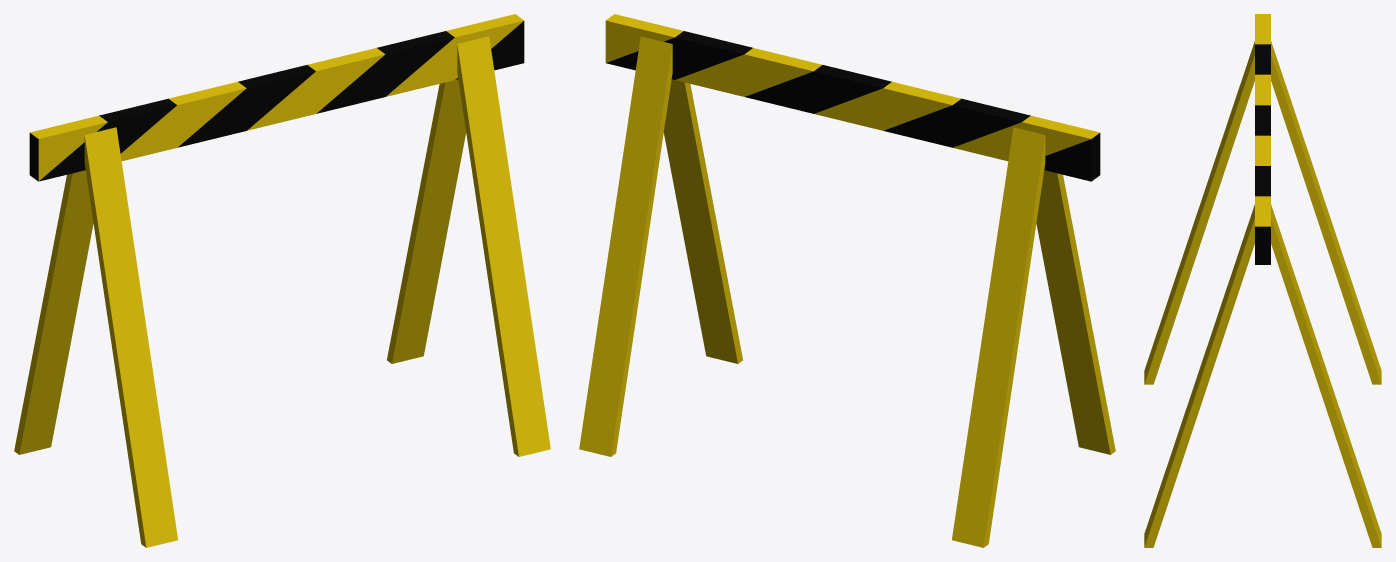
3 views of the same model, side by side, from view 1: azimuth 30°, elevation 25°; view 2: azimuth 150°, elevation 25°; view 3: azimuth 270°, elevation 25° (orthographic). The views are drawn at different scales.
Parts seen in each view (by area): view 1: Cube.004, Cube; view 2: Cube.004, Cube; view 3: Cube.004, Cube.
Boxes of the visible parts, x1,y1,x2,y2 form: Cube.004: (14, 36, 550, 547); Cube: (29, 14, 524, 181); Cube.004: (579, 36, 1115, 547); Cube: (605, 14, 1100, 181); Cube.004: (1144, 41, 1381, 547); Cube: (1255, 14, 1270, 264).
Size of the model in its own units: 2 by 1.48 by 0.9429.
